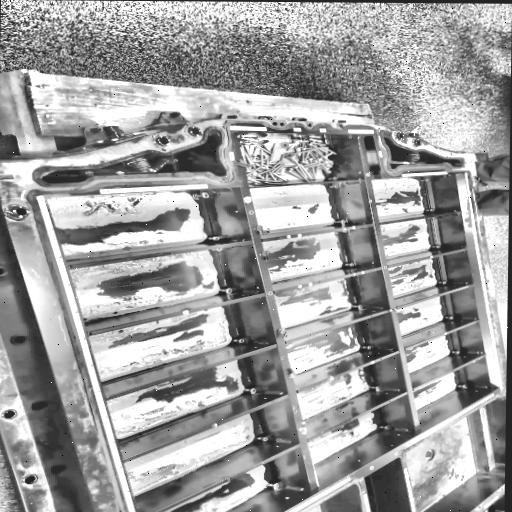b_casing: (0, 118, 507, 512)
